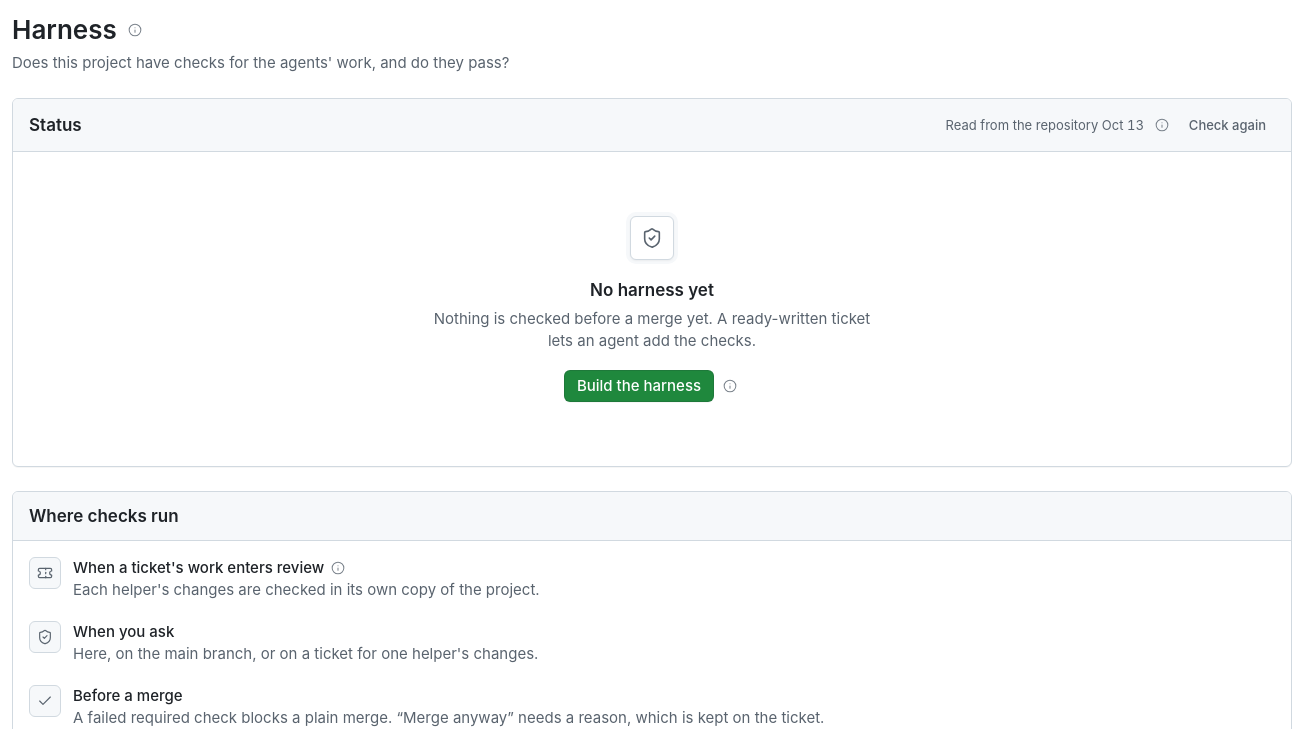
Test: Harness page › without a harness: "Build the harness" creates the ticket, links to it and shows its stage
Check: the text "No harness yet" is shown, box top-left (590, 278), bottom-right (714, 302)
What coordinates should you click on to do the following:
click the button "Build the harness"
I would click on:
 (639, 386)
Its box is top-left (564, 370), bottom-right (714, 402).
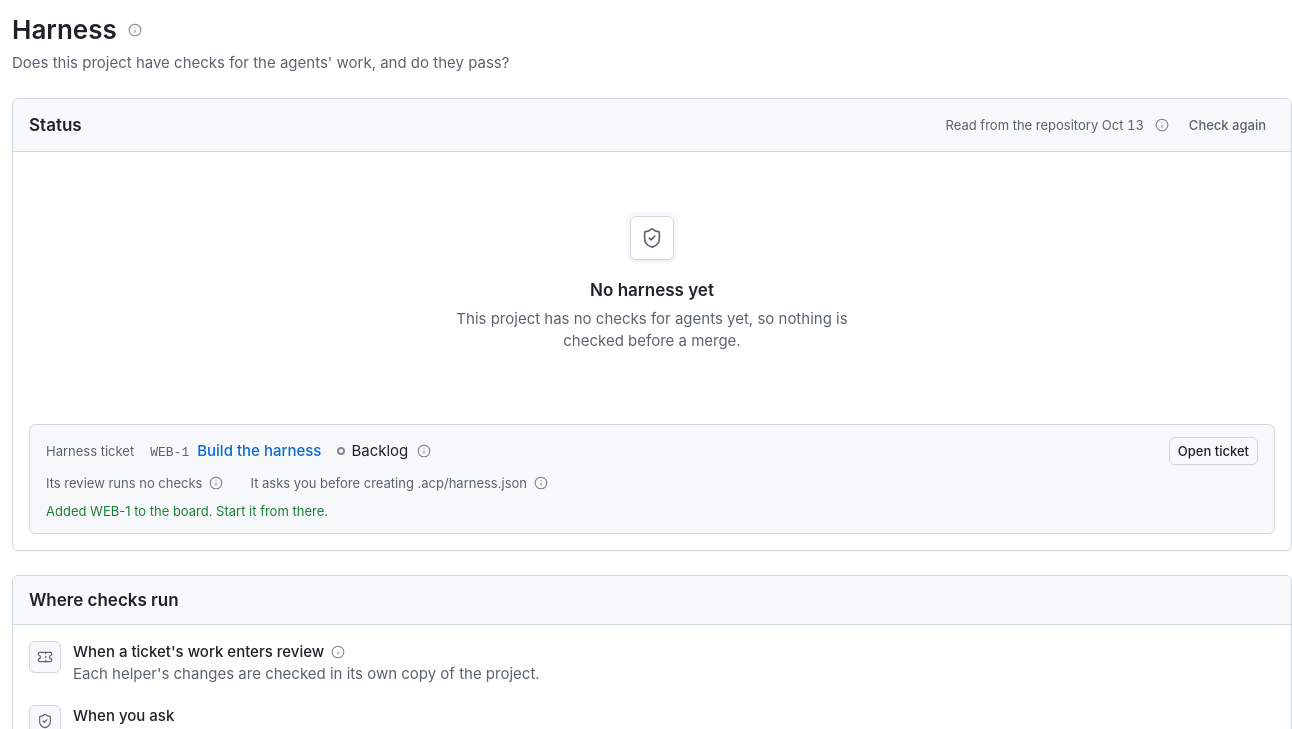
Check: the text "Backlog" is shown, box top-left (351, 440), bottom-right (408, 462)
Check: the message reads "Added WEB-1 to the board. Start it from there.", box top-left (46, 503), bottom-right (328, 519)
